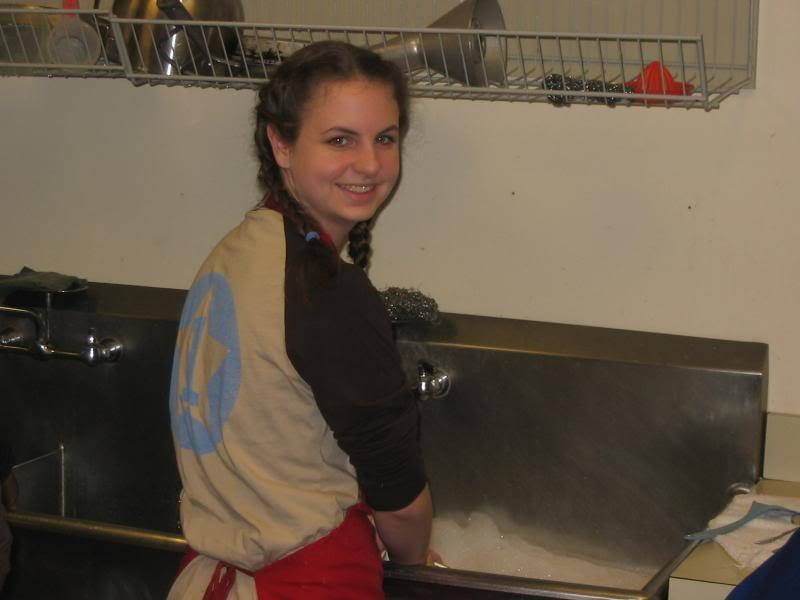person: (158, 35, 435, 600)
